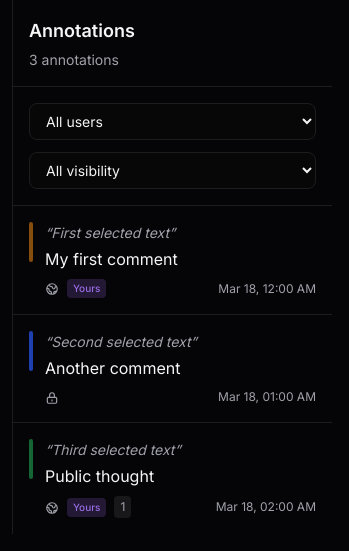
Test case: AnnotationSidebar › Filter by User › should filter annotations by selected user
Step 1. Select "You" in the dropdown named "filter by user" → point(172, 122), box [29,103,316,140]
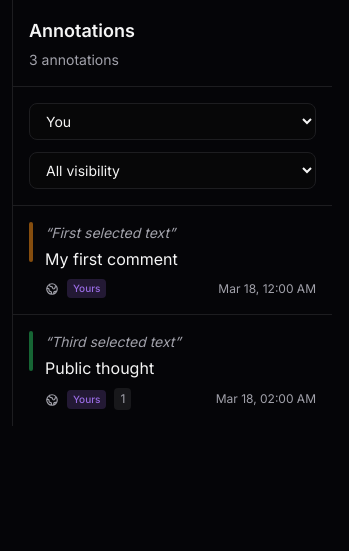
expect the text "My first comment" is shown: met, box [45,249,178,269]
expect the button "Another comment" is gone: met
